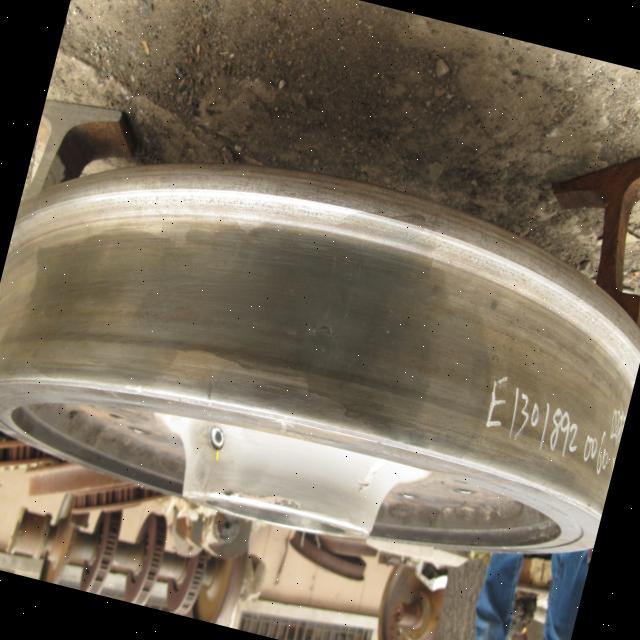Contact_Fatigue_Cracks: (314, 323, 340, 341)
